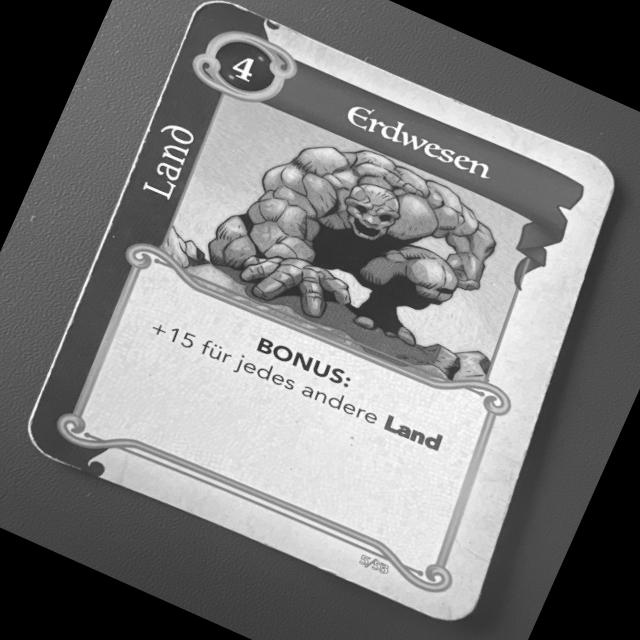Earth Elemental: (16, 0, 624, 634)
